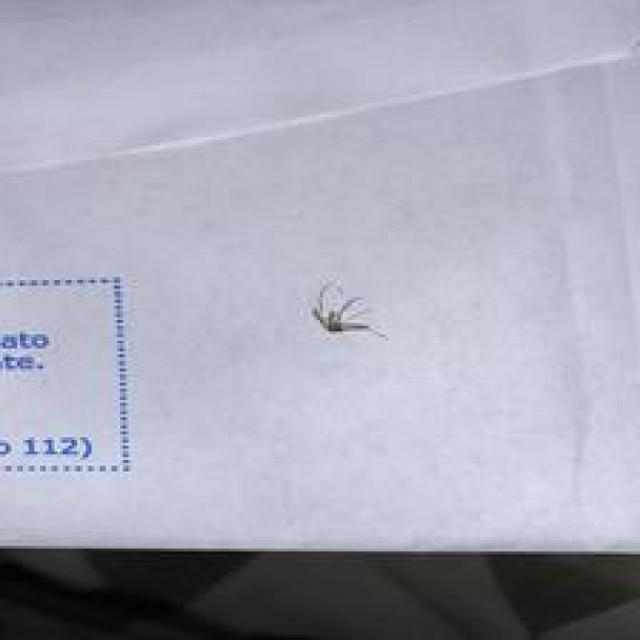Culex: (310, 280, 387, 340)
